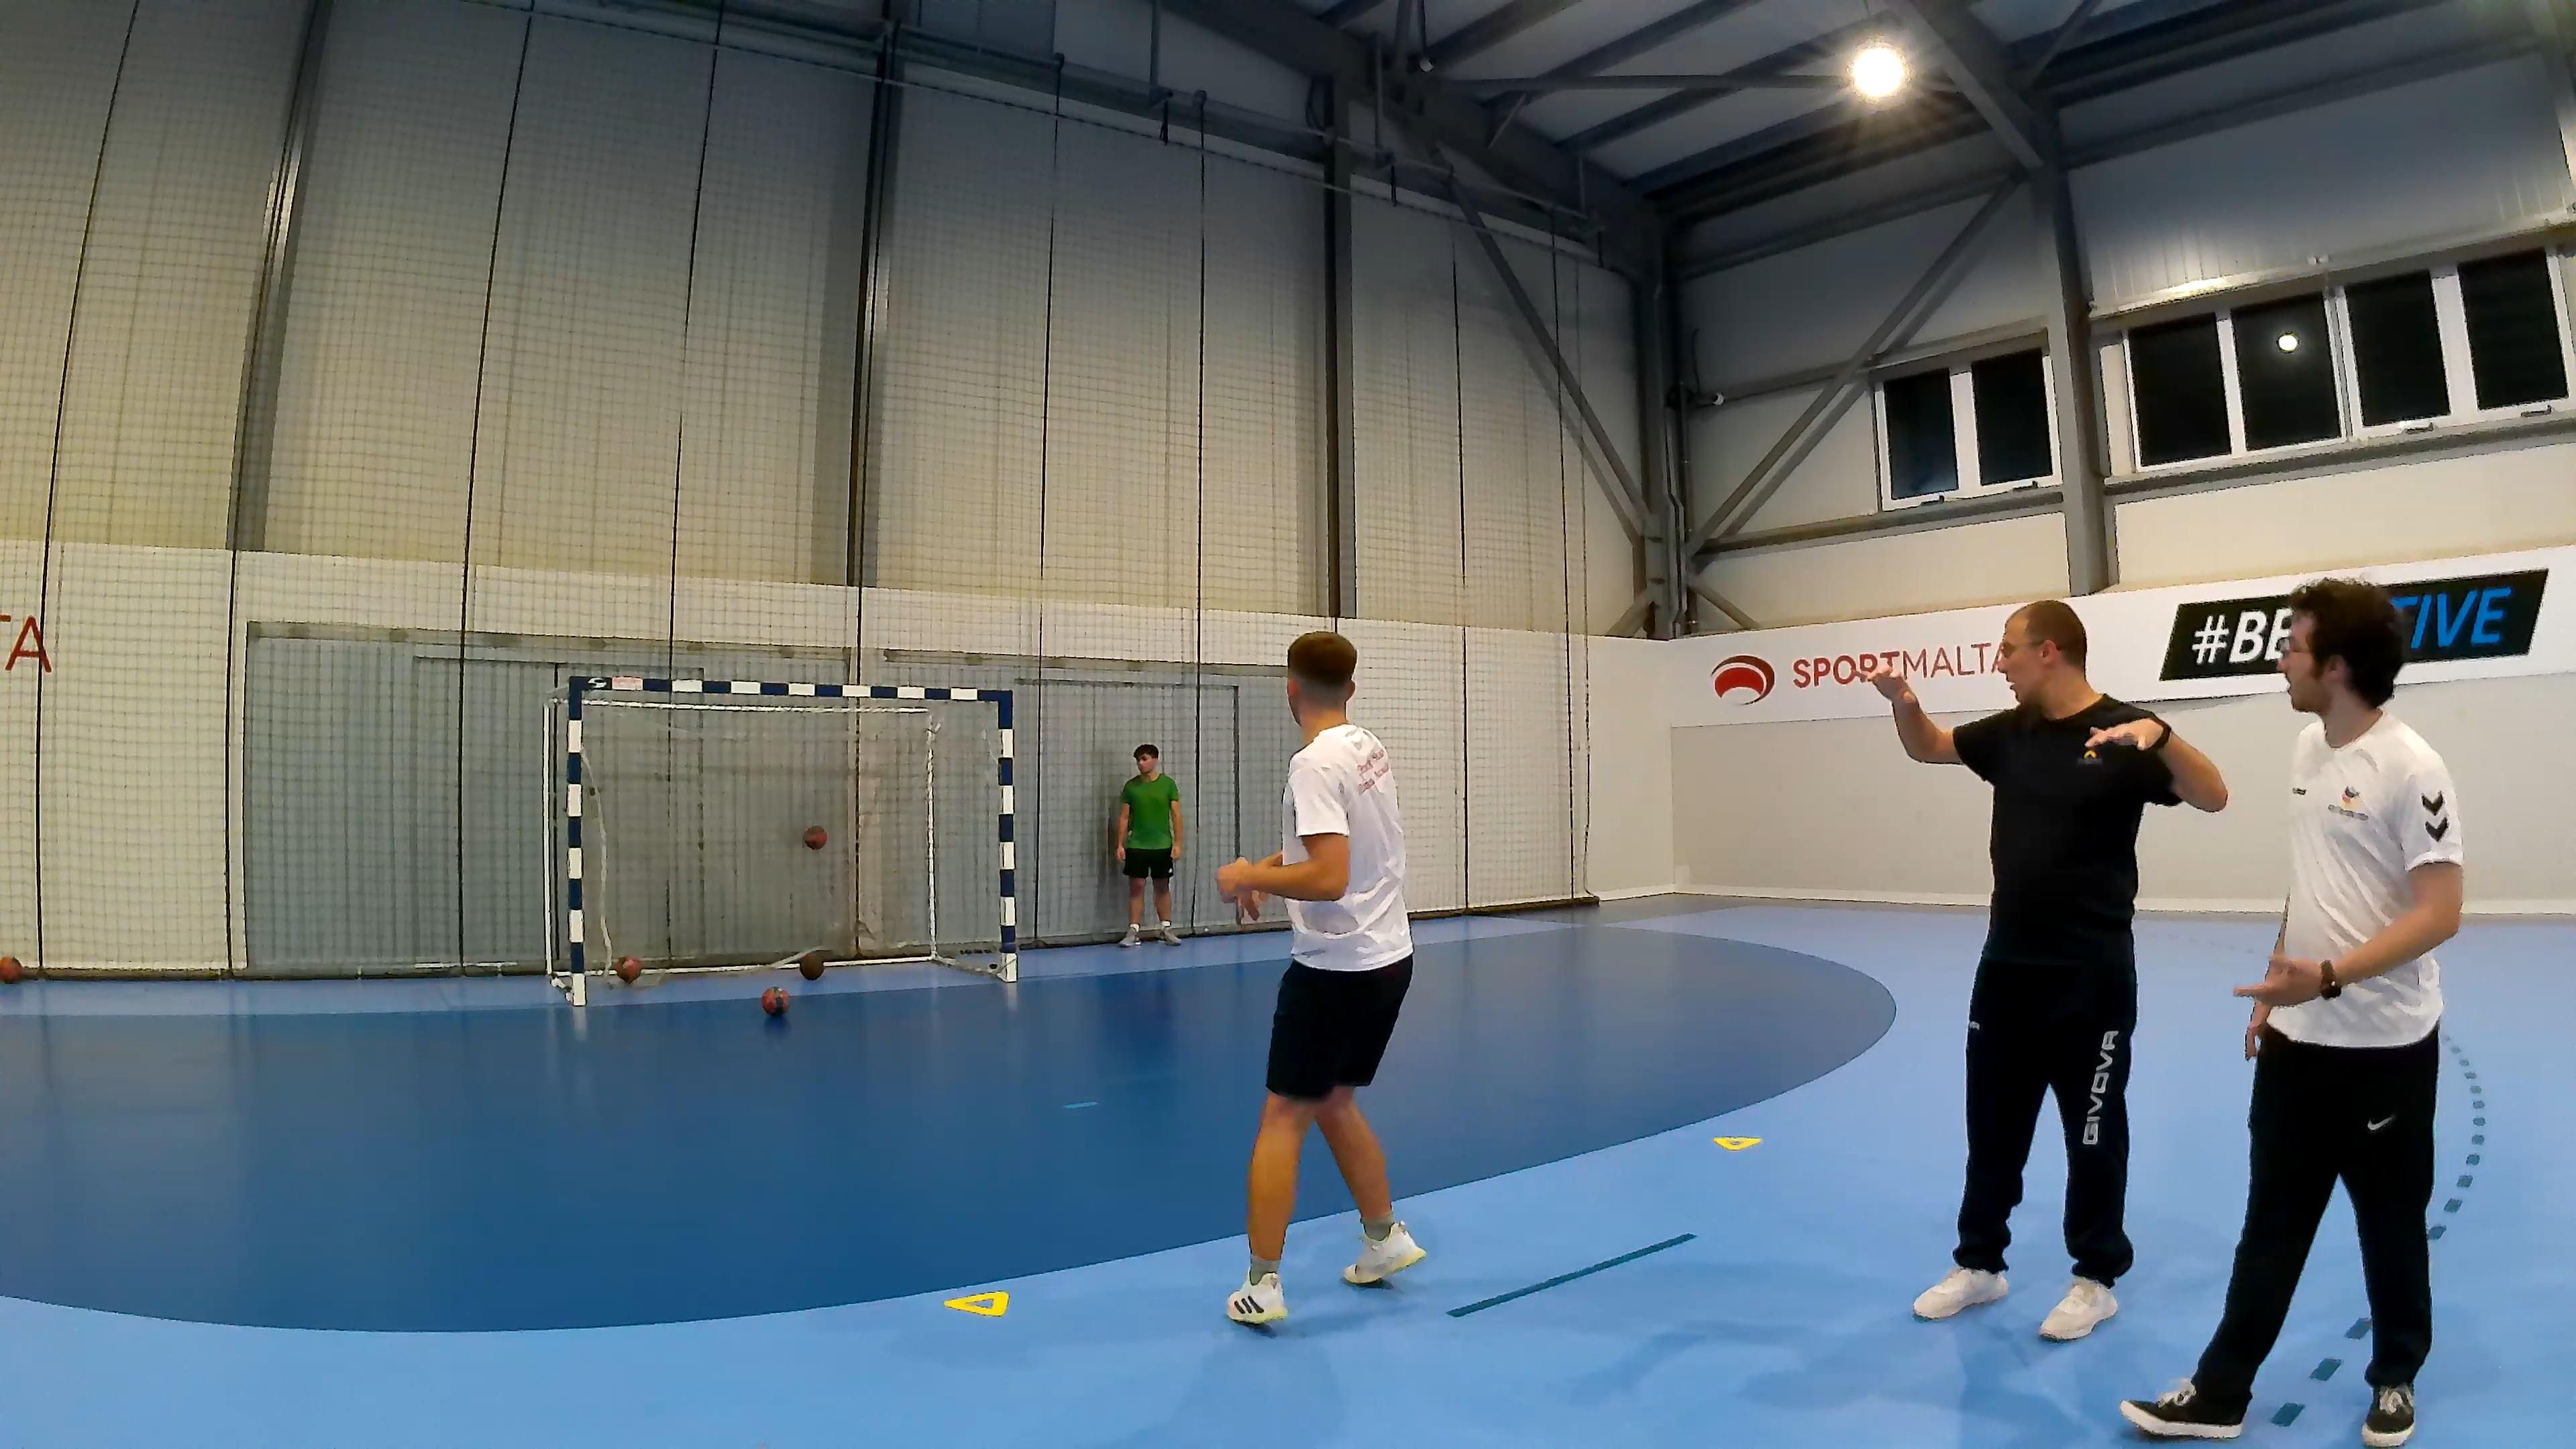handball: (761, 985, 789, 1016), (796, 948, 823, 980), (614, 955, 640, 982), (801, 824, 826, 849)
